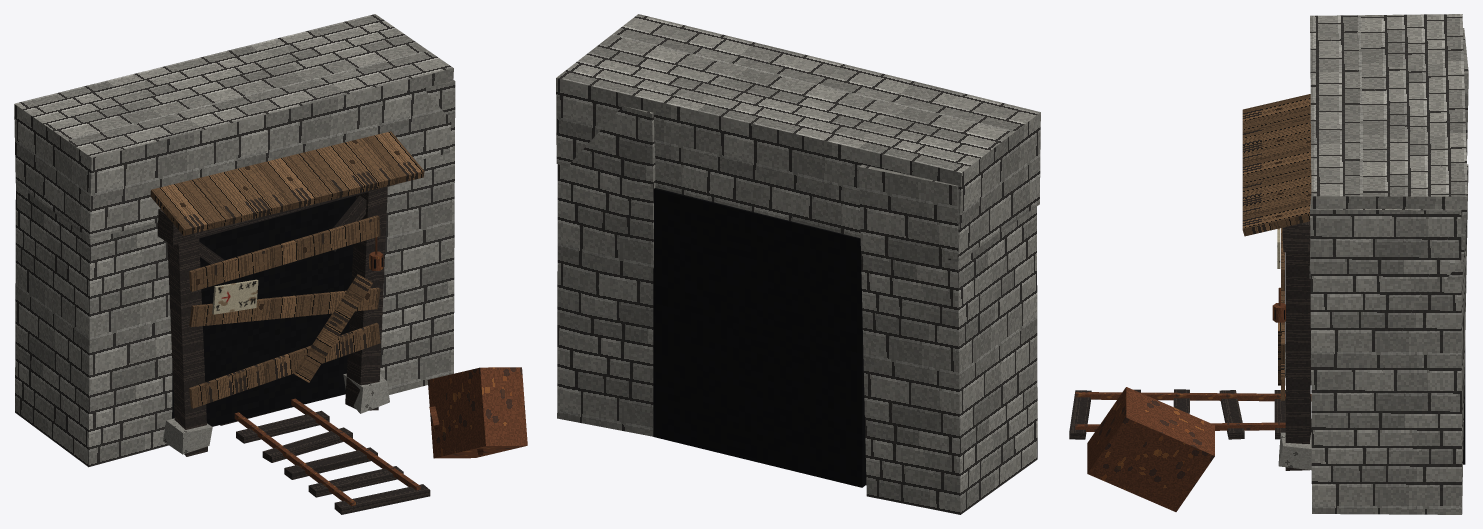
The model's file is prop_mine.glb.
The picture shows the model from 3 angles, left to right: view 1: azimuth 30°, elevation 25°; view 2: azimuth 150°, elevation 25°; view 3: azimuth 270°, elevation 25°; orthographic projection. The views are drawn at different scales.
Parts seen in each view (by area): view 1: prop_mine; view 2: prop_mine; view 3: prop_mine.
Part boxes in pixels (left/top/right/bottom): prop_mine: left=14, top=14, right=527, bottom=514; prop_mine: left=556, top=14, right=1040, bottom=514; prop_mine: left=1069, top=14, right=1468, bottom=514.
Size of the model in its own units: 4.28 by 3.69 by 3.95.
Materials: 7 (7 with a texture image).
